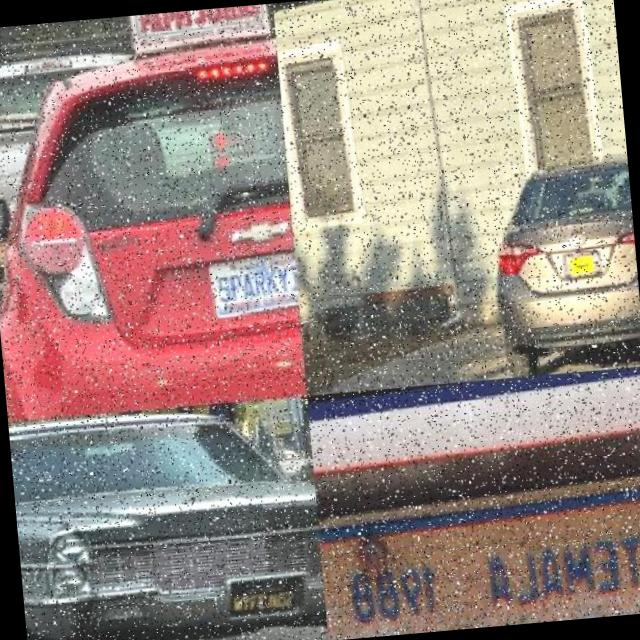LicensePlate: (208, 250, 298, 317), (230, 578, 299, 615), (564, 250, 601, 277)
